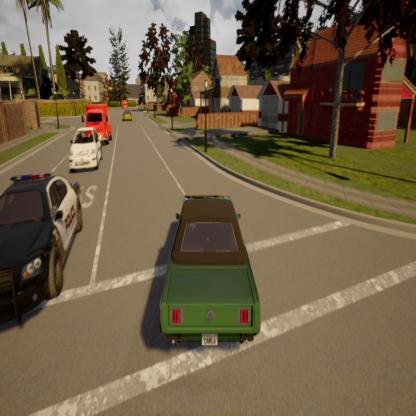Cars: (149, 178, 267, 362), (0, 164, 81, 334), (63, 119, 110, 177), (83, 100, 118, 150), (120, 107, 134, 128), (120, 92, 130, 110)
